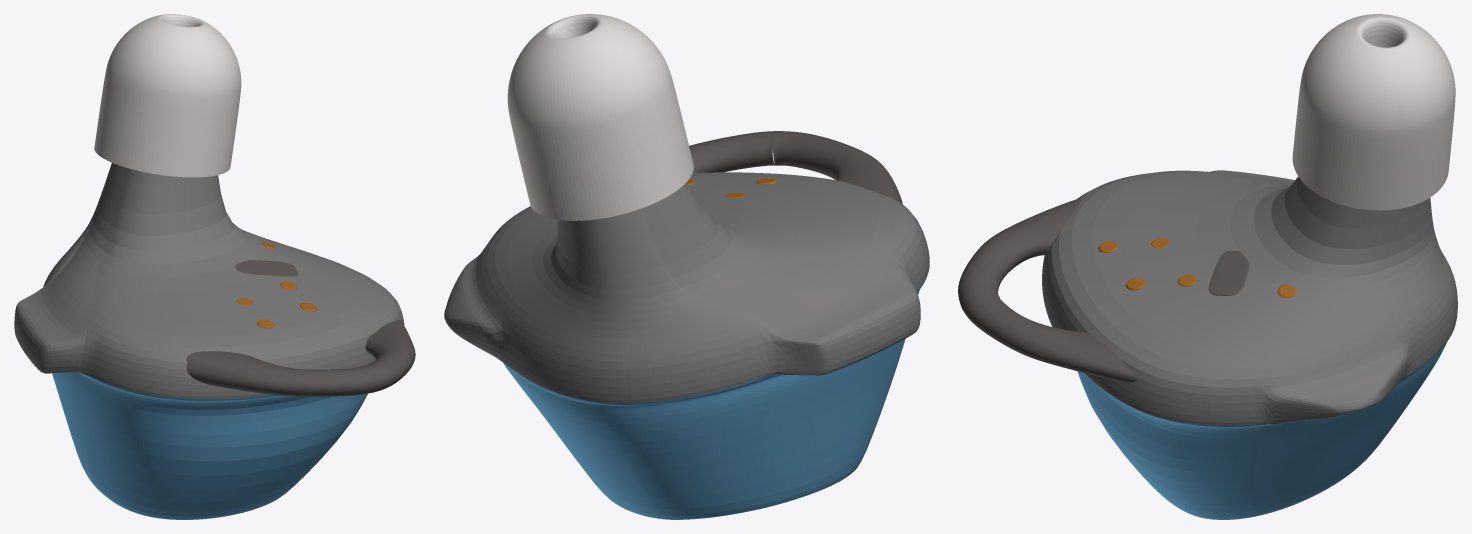
Rendered from final_earbud.glb.
3 views of the same model, side by side, from view 1: azimuth 30°, elevation 25°; view 2: azimuth 150°, elevation 25°; view 3: azimuth 270°, elevation 25° (orthographic). The views are drawn at different scales.
Parts seen in each view (by area): view 1: right_earphone-gray, right_earphone-blue, right_earphone-rubber, right_earphone-dark-gray, right_earphone-dark-gray_1; view 2: right_earphone-gray, right_earphone-blue, right_earphone-rubber, right_earphone-dark-gray; view 3: right_earphone-gray, right_earphone-rubber, right_earphone-blue, right_earphone-dark-gray, right_earphone-dark-gray_1.
Part boxes in pixels (x1=…): right_earphone-gray: x1=14, y1=163, x2=404, y2=399; right_earphone-blue: x1=52, y1=372, x2=367, y2=519; right_earphone-rubber: x1=94, y1=14, x2=241, y2=177; right_earphone-dark-gray: x1=186, y1=319, x2=415, y2=396; right_earphone-dark-gray_1: x1=235, y1=260, x2=298, y2=276; right_earphone-gray: x1=444, y1=172, x2=929, y2=403; right_earphone-blue: x1=503, y1=277, x2=926, y2=519; right_earphone-rubber: x1=507, y1=14, x2=693, y2=220; right_earphone-dark-gray: x1=689, y1=131, x2=902, y2=204; right_earphone-gray: x1=1042, y1=170, x2=1457, y2=425; right_earphone-rubber: x1=1292, y1=14, x2=1455, y2=210; right_earphone-blue: x1=1077, y1=342, x2=1446, y2=519; right_earphone-dark-gray: x1=958, y1=198, x2=1137, y2=382; right_earphone-dark-gray_1: x1=1209, y1=250, x2=1249, y2=295.
Size of the model in its own units: 0.8732 by 1.02 by 0.9639.
